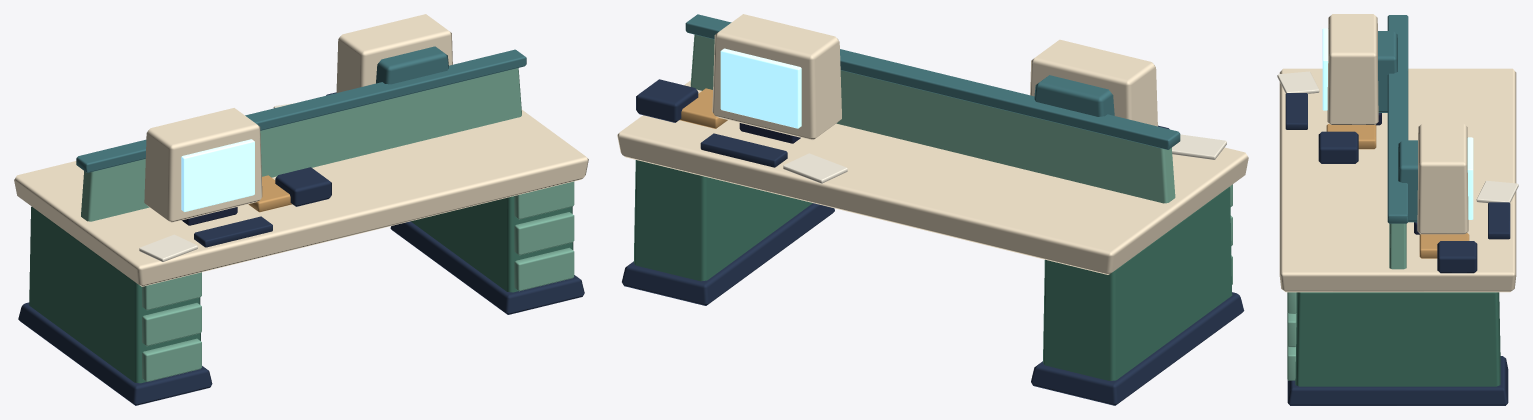
Rendered from office_island.glb.
3 renders of one model, left to right at view 1: azimuth 30°, elevation 25°; view 2: azimuth 150°, elevation 25°; view 3: azimuth 270°, elevation 25°, orthographic. The views are drawn at different scales.
Parts seen in each view (by area): view 1: office_island; view 2: office_island; view 3: office_island.
Part boxes in pixels (x1=…): office_island: x1=14, y1=14, x2=588, y2=405; office_island: x1=617, y1=14, x2=1248, y2=405; office_island: x1=1277, y1=14, x2=1518, y2=405.
Bounding box in the file's own units: 3.06 × 1.48 × 1.5.
